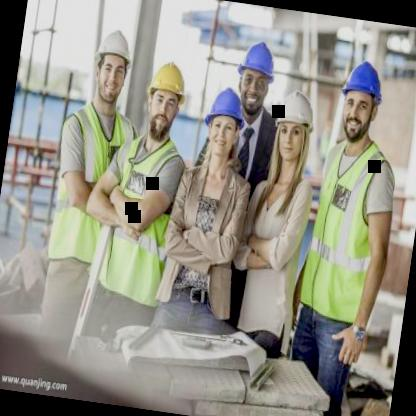helmet: (331, 52, 389, 147), (195, 79, 252, 168), (139, 50, 194, 141), (265, 83, 322, 169), (229, 32, 281, 116), (88, 19, 138, 104)
